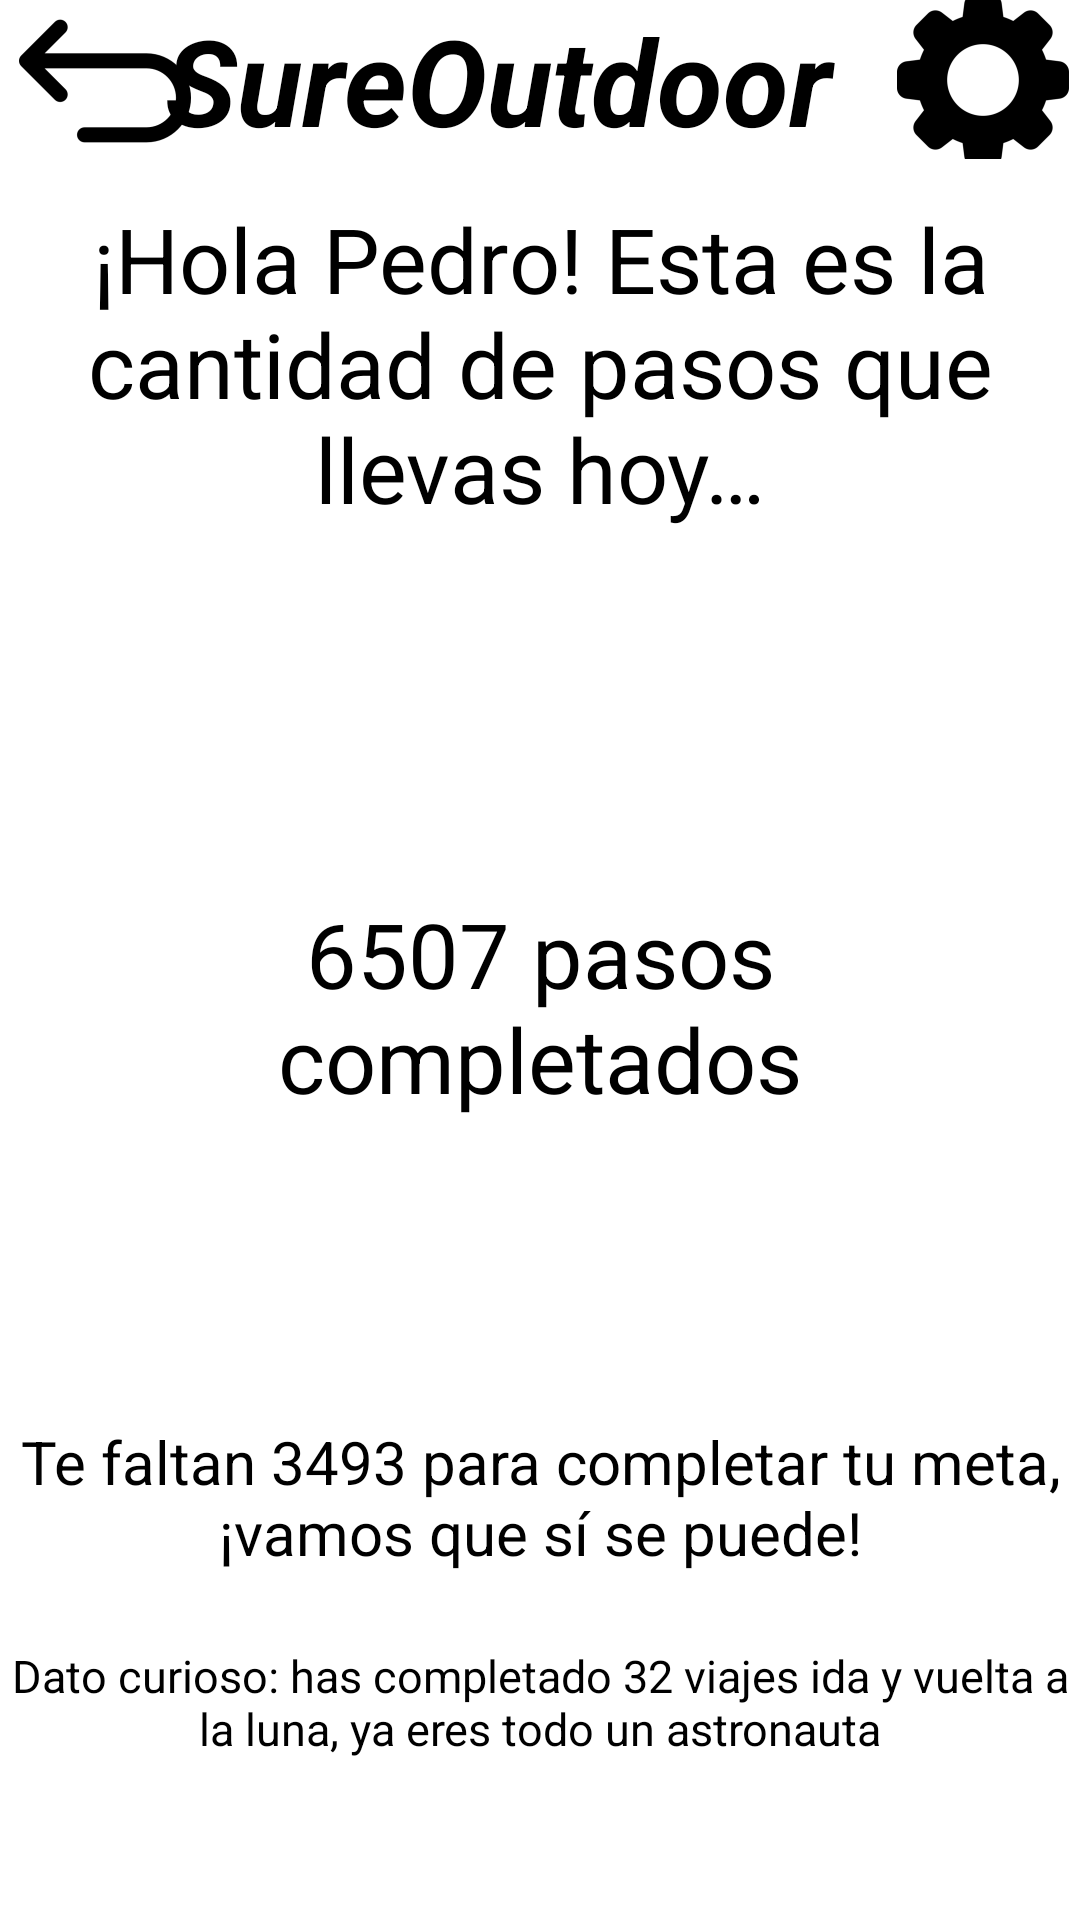

Icons on this 1080x1920 Android screen, each with the point to tap as [x,y]:
Config: [983,79]
